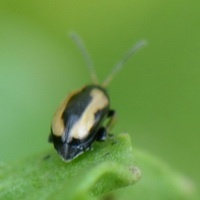insect: (49, 32, 146, 160)
